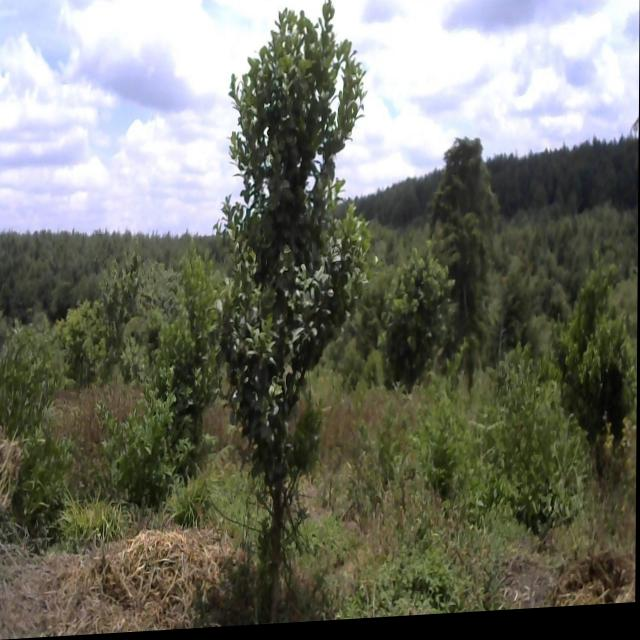other: (551, 266, 638, 477), (430, 140, 501, 353), (383, 256, 456, 393)
